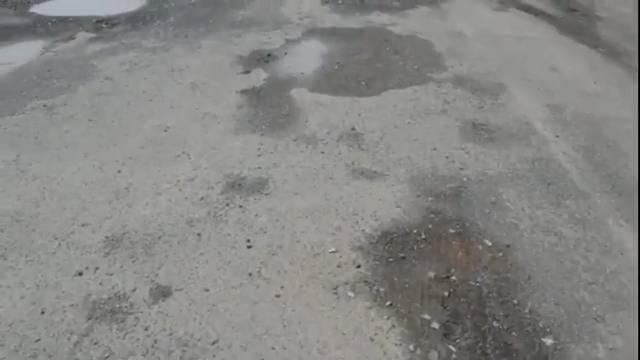pothole: (226, 169, 551, 360)
